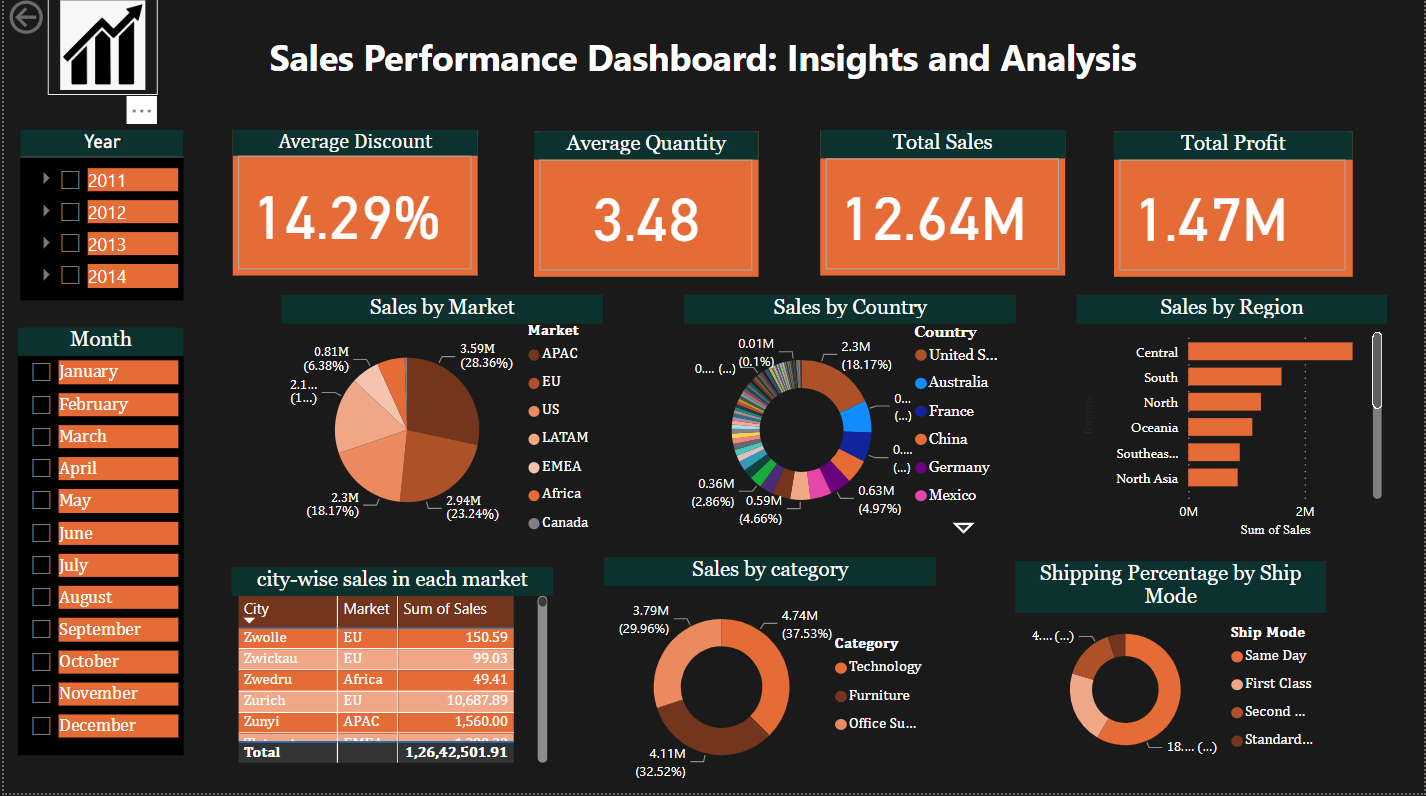

The page's visual inventory and layout, read from the dashboard file:
{"tool":"powerbi","page":{"name":"Page 1","canvas":[1280,720],"ordinal":0},"visuals":[{"type":"donutChart","title":"Sales by Country","fields":{"Category":["Orders.Country"],"Y":["Sum(Orders.Sales)"]},"box":[360.6,270.2,299.5,212.7],"z":0},{"type":"pieChart","title":" Sales by Market","fields":{"Category":["Orders.Market"],"Y":["Sum(Orders.Sales)"]},"box":[14.7,275,289.7,232.3],"z":1000},{"type":"barChart","title":" Sales by Region","fields":{"Category":["Orders.Region"],"Y":["Sum(Orders.Sales)"]},"box":[698,270.2,279.9,196.8],"z":2000},{"type":"donutChart","title":"Sales by category","fields":{"Y":["Sum(Orders.Sales)"],"Category":["Orders.Category"]},"box":[360.6,507.3,299.5,212.7],"z":3000},{"type":"actionButton","box":[0,0,100,40],"z":4000},{"type":"donutChart","fields":{"Category":["Orders.Ship Mode"],"Y":["Orders.Shipping Percentage"]},"box":[698,507.3,279.9,189.5],"z":5000},{"type":"tableEx","title":"city-wise sales in each market","fields":{"Values":["Orders.City","Orders.Market","Sum(Orders.Sales)"]},"box":[14.7,523.2,289.7,180.9],"z":6000},{"type":"clusteredColumnChart","title":"Top Selling Products","fields":{"Category":["Orders.Product Name"],"Y":["Sum(Orders.Sales)"]},"box":[999.9,270.2,279.9,426.6],"z":7000},{"type":"textbox","box":[243.3,29.3,833.7,61.1],"z":8000},{"type":"cardVisual","title":"Total Sales","fields":{"Data":["Sum(Orders.Sales)"]},"box":[820.2,107.6,221.3,132],"z":9000},{"type":"cardVisual","title":"Total Profit","fields":{"Data":["Sum(Orders.Profit)"]},"box":[1065.5,108,214.9,131],"z":10000},{"type":"slicer","title":"Date Selection","fields":{"Values":["Orders.Order Date"]},"box":[14.7,107.6,262.8,132],"z":11000},{"type":"cardVisual","title":"Average Discount","fields":{"Data":["Avg(Orders.Discount)"]},"box":[319,107.6,221.3,132],"z":12000},{"type":"cardVisual","title":"Average Quantity","fields":{"Data":["Avg(Orders.Quantity)"]},"box":[578.2,107.6,202.9,132],"z":13000},{"type":"image","box":[39.1,0,99,90.5],"z":14000}]}

Visuals, with their boxes in screenshot pixels (x1, y1, x2, y2), scaled from the page's 1280x720 canvas onto the 1426x796 screenshot:
"Sales by Country" donutChart: <region>402, 299, 735, 534</region>
" Sales by Market" pieChart: <region>16, 304, 339, 561</region>
" Sales by Region" barChart: <region>778, 299, 1089, 516</region>
"Sales by category" donutChart: <region>402, 561, 735, 795</region>
actionButton: <region>0, 0, 111, 44</region>
donutChart - Orders.Ship Mode x Orders.Shipping Percentage: <region>778, 561, 1089, 770</region>
"city-wise sales in each market" tableEx: <region>16, 578, 339, 778</region>
"Top Selling Products" clusteredColumnChart: <region>1114, 299, 1425, 770</region>
textbox: <region>271, 32, 1200, 100</region>
"Total Sales" cardVisual: <region>914, 119, 1160, 265</region>
"Total Profit" cardVisual: <region>1187, 119, 1425, 264</region>
"Date Selection" slicer: <region>16, 119, 309, 265</region>
"Average Discount" cardVisual: <region>355, 119, 602, 265</region>
"Average Quantity" cardVisual: <region>644, 119, 870, 265</region>
image: <region>44, 0, 154, 100</region>
